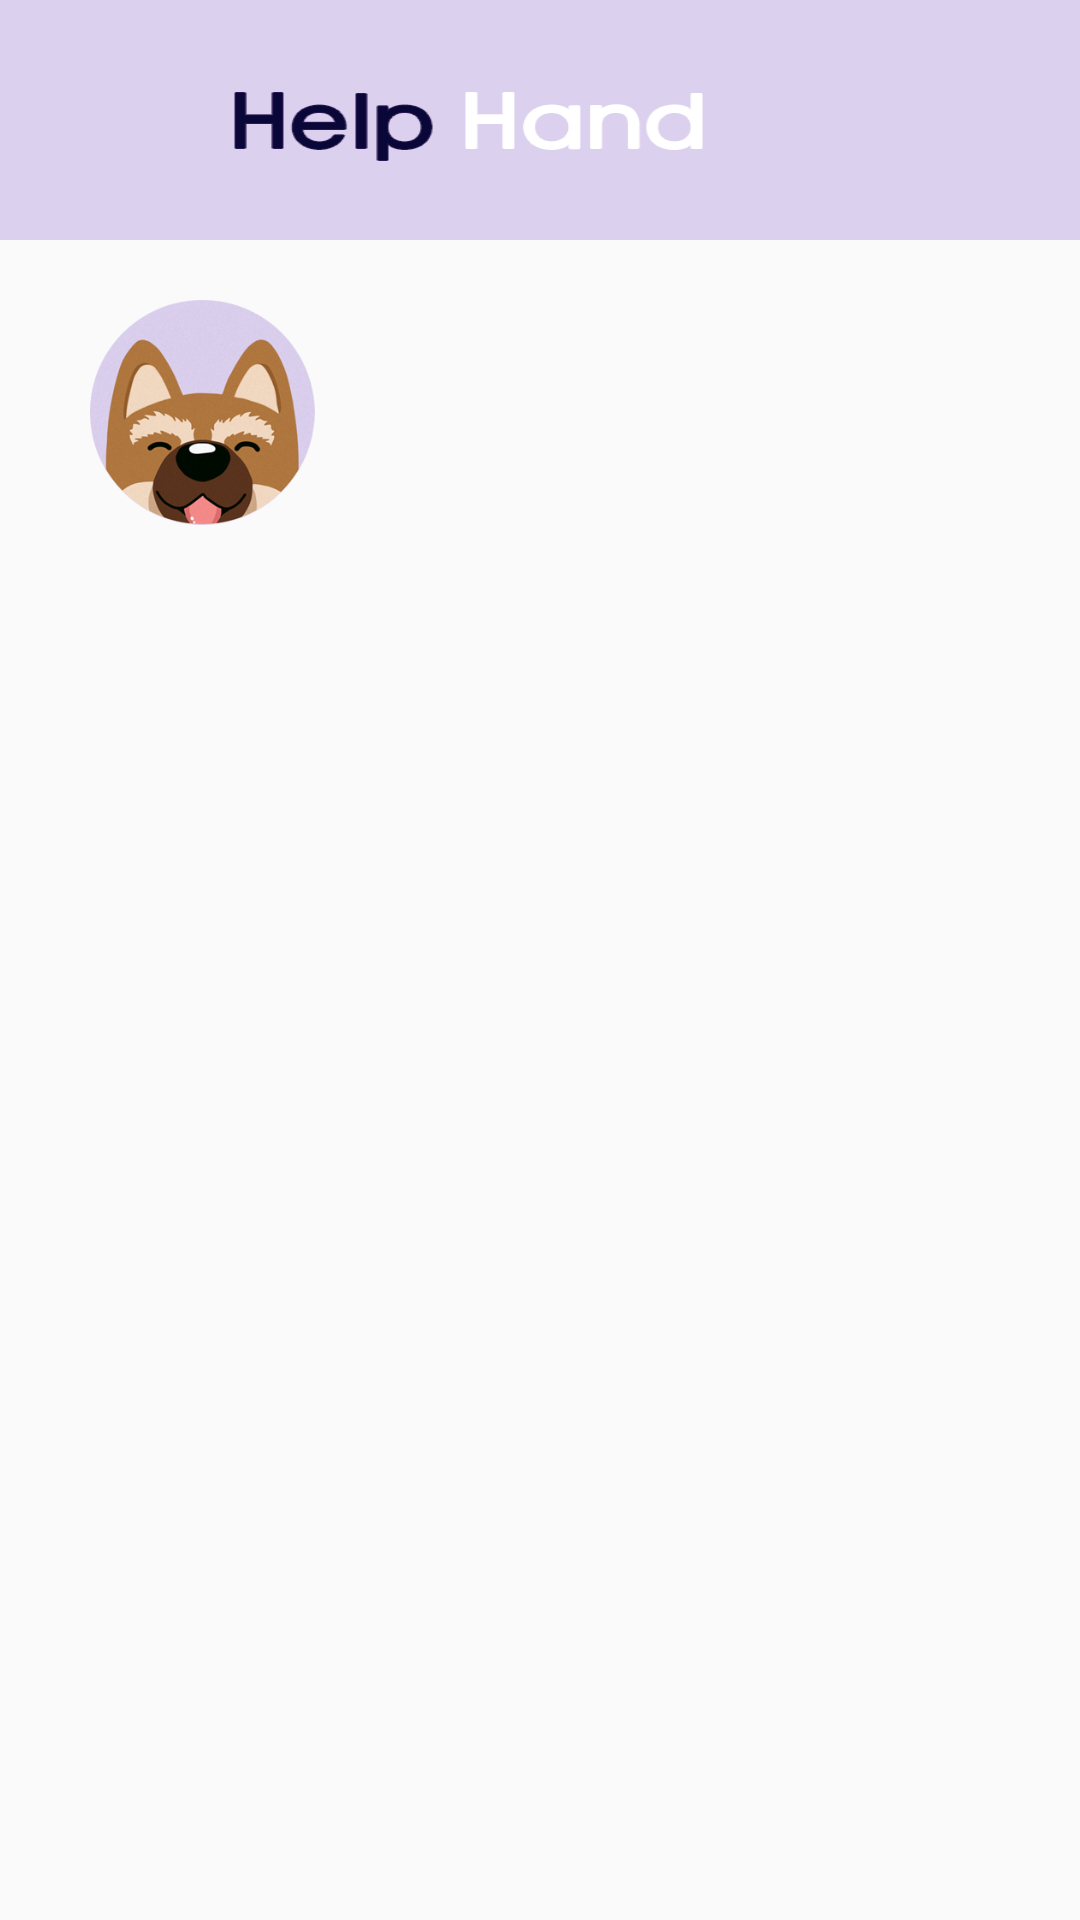

Where icons sit on this 1080×1920 app screen, as Rect(x1, y1, x2, y2):
ava: Rect(90, 300, 315, 525)
